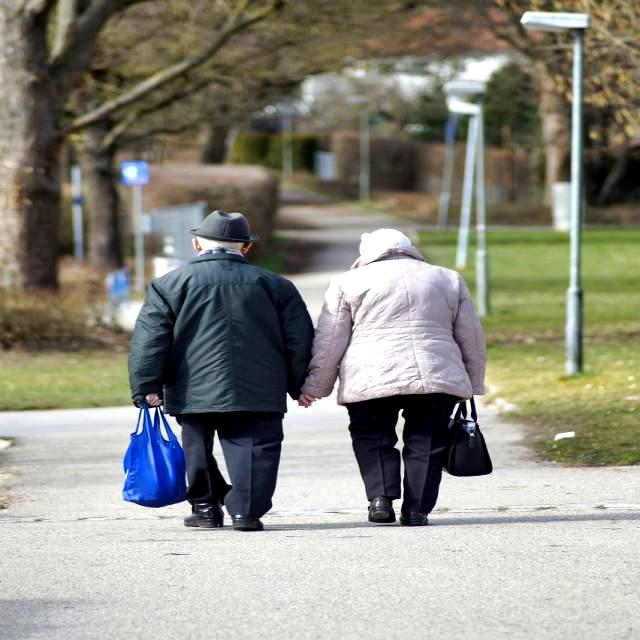no_hard_hat: (188, 210, 258, 242)
no_head_wear: (361, 228, 420, 258)
person: (128, 211, 313, 531), (299, 230, 485, 526)
